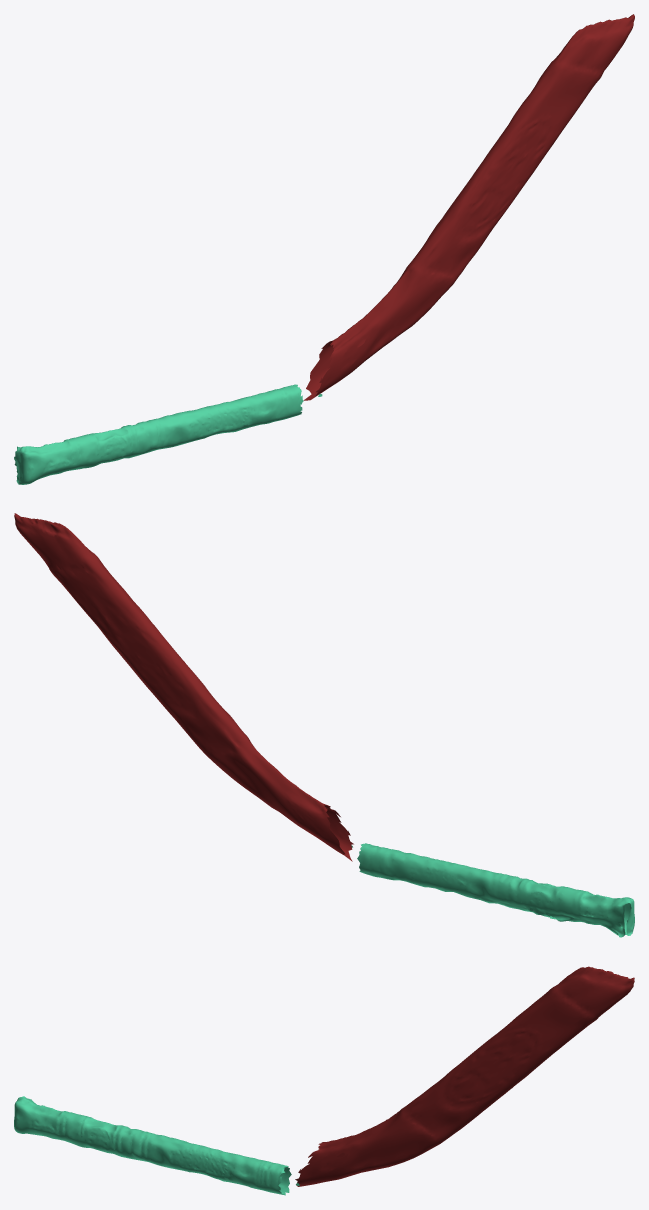
File: object_deformed_9.obj
3 views of the same model, one above another, from view 1: azimuth 30°, elevation 25°; view 2: azimuth 150°, elevation 25°; view 3: azimuth 330°, elevation 25° (orthographic). The views are drawn at different scales.
Size of the model in its own units: 0.9247 by 0.4251 by 0.0723.
